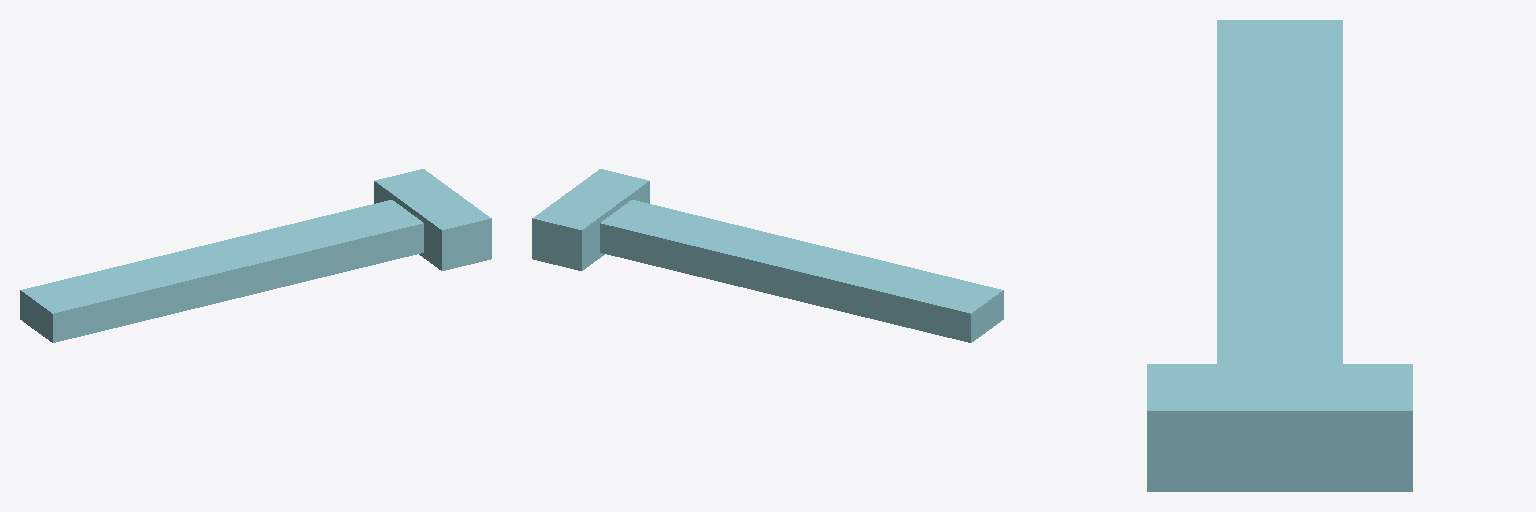
The robot description file, URDF, robot "cuboid_hammer_v005":
<?xml version="1.0"?>
<robot name="cuboid_hammer_v005">

  <link name="cuboid_hammer_v005">
    <!-- Handle -->
    <visual>
      <origin xyz="0 0 0" rpy="0 0 0"/>
      <geometry>
        <box size="0.26171432338617256 0.0393501946486842 0.01988738037207228"/>
      </geometry>
      <material name="material">
        <color rgba="0.639 0.847 0.882 1.0"/>
      </material>
    </visual>
    <collision>
      <origin xyz="0 0 0" rpy="0 0 0"/>
      <geometry>
        <box size="0.26171432338617256 0.0393501946486842 0.01988738037207228"/>
      </geometry>
    </collision>

    <!-- Head -->
    <visual>
      <origin xyz="0.14826635581378367 0 0" rpy="0 0 0"/>
      <geometry>
        <box size="0.03481838824139476 0.08286890678930656 0.027578854363371427"/>
      </geometry>
      <material name="material">
        <color rgba="0.639 0.847 0.882 1.0"/>
      </material>
    </visual>
    <collision>
      <origin xyz="0.14826635581378367 0 0" rpy="0 0 0"/>
      <geometry>
        <box size="0.03481838824139476 0.08286890678930656 0.027578854363371427"/>
      </geometry>
    </collision>

    <inertial>
      <density value="400.0"/>
    </inertial>
  </link>

</robot>

--- Render facts (derived) ---
3 views of the same robot in one strip: view 1: azimuth 30°, elevation 25°; view 2: azimuth 150°, elevation 25°; view 3: azimuth 270°, elevation 25° (orthographic).
Model cuboid_hammer_v005 with 1 links and 0 joints (none), rooted at cuboid_hammer_v005, posed every joint at zero.
Visible links, largest first — view 1: cuboid_hammer_v005; view 2: cuboid_hammer_v005; view 3: cuboid_hammer_v005.
Link boxes in pixels (x1,y1,x2,y2): cuboid_hammer_v005: [20, 169, 491, 342]; cuboid_hammer_v005: [532, 169, 1003, 342]; cuboid_hammer_v005: [1147, 20, 1412, 491].
Size in the robot's own frame: 0.2965 by 0.0829 by 0.0276 metres.
Geometry: primitives only (box / cylinder / sphere), no mesh files.
